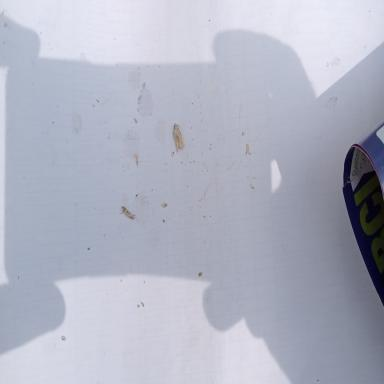pbw: (172, 122, 186, 153), (118, 206, 138, 222)
